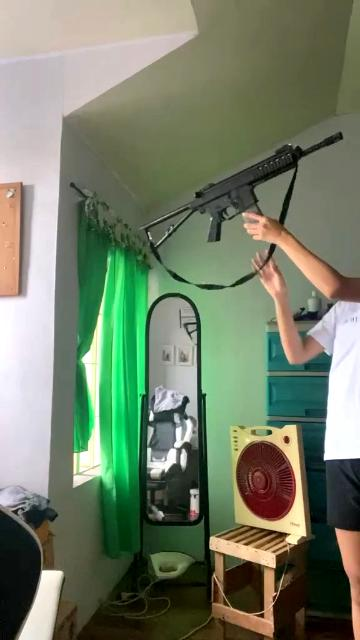rifle: (141, 124, 345, 282)
